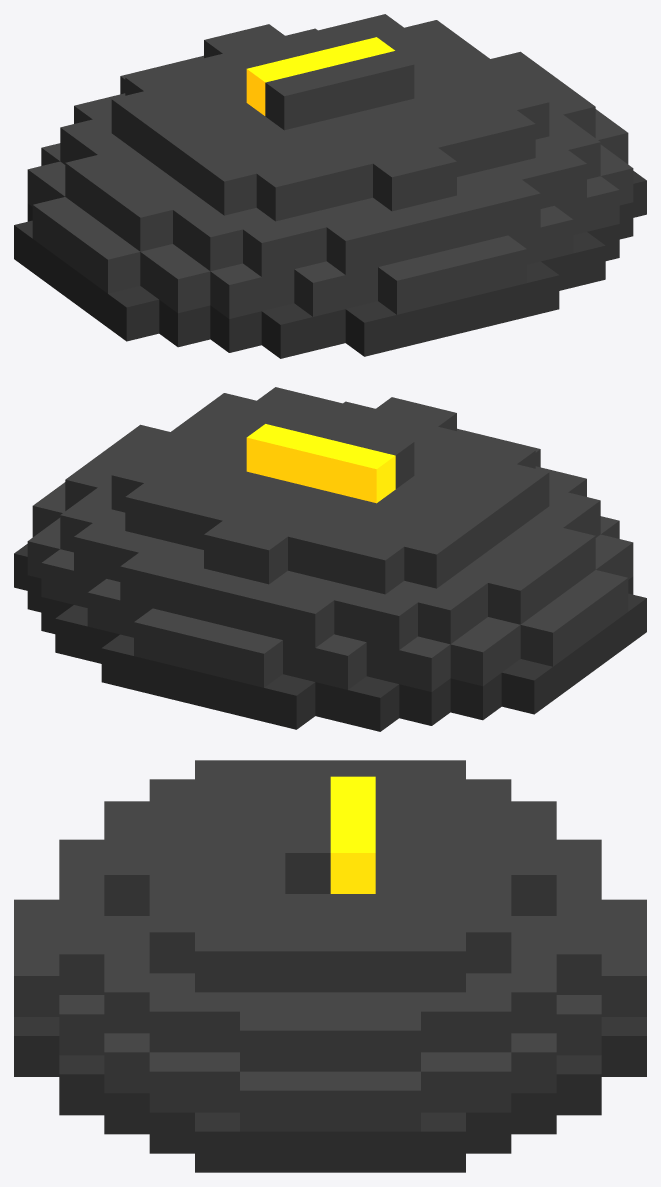
The model's file is item_STONE_DETECT.glb.
3 views of the same model, one above another, from view 1: azimuth 30°, elevation 25°; view 2: azimuth 150°, elevation 25°; view 3: azimuth 270°, elevation 25° (orthographic). The views are drawn at different scales.
Parts seen in each view (by area): view 1: item_STONE_DETECT; view 2: item_STONE_DETECT; view 3: item_STONE_DETECT.
Boxes of the visible parts, x1=… form: item_STONE_DETECT: x1=14, y1=14, x2=646, y2=358; item_STONE_DETECT: x1=14, y1=387, x2=646, y2=731; item_STONE_DETECT: x1=14, y1=760, x2=646, y2=1172.
Bounding box in the file's own units: 0.3636 × 0.1136 × 0.3182.
1 material, 1 textured.
